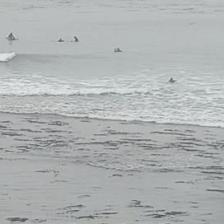surfer: (6, 32, 16, 40), (168, 77, 176, 83), (73, 35, 79, 42), (114, 47, 122, 52), (57, 38, 64, 42)
